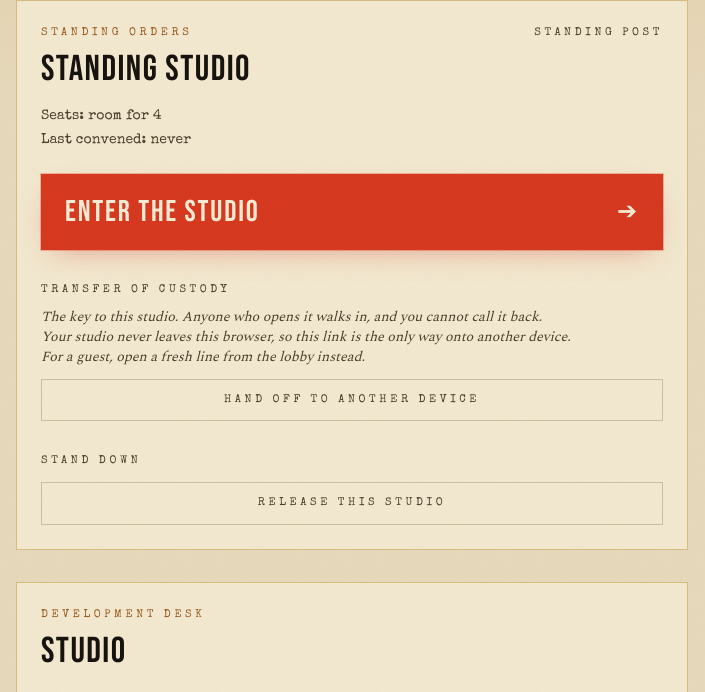
Test: confirming the release clears the studio and falls back to the dormant card in place
What coordinates should you click on to do the following:
click the button "Release this studio"
I would click on:
 (352, 504)
Its box is [41,482,663,525].
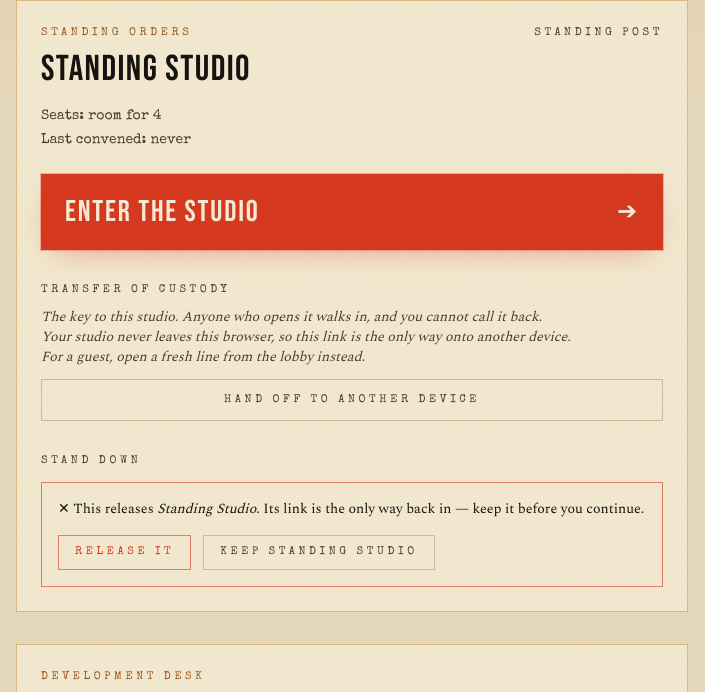
What coordinates should you click on to do the following:
click the button "Release it"
I would click on:
 (125, 553)
Its box is [58,535,191,570].
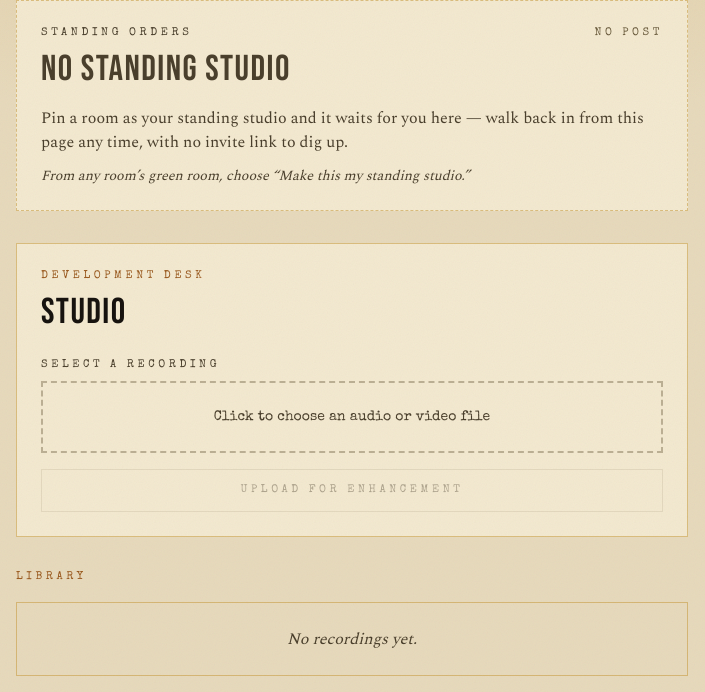
Expected: the button "Enter the Studio" is gone
Expected: the heading "No Standing Studio" is shown, [41,48,291,91]
